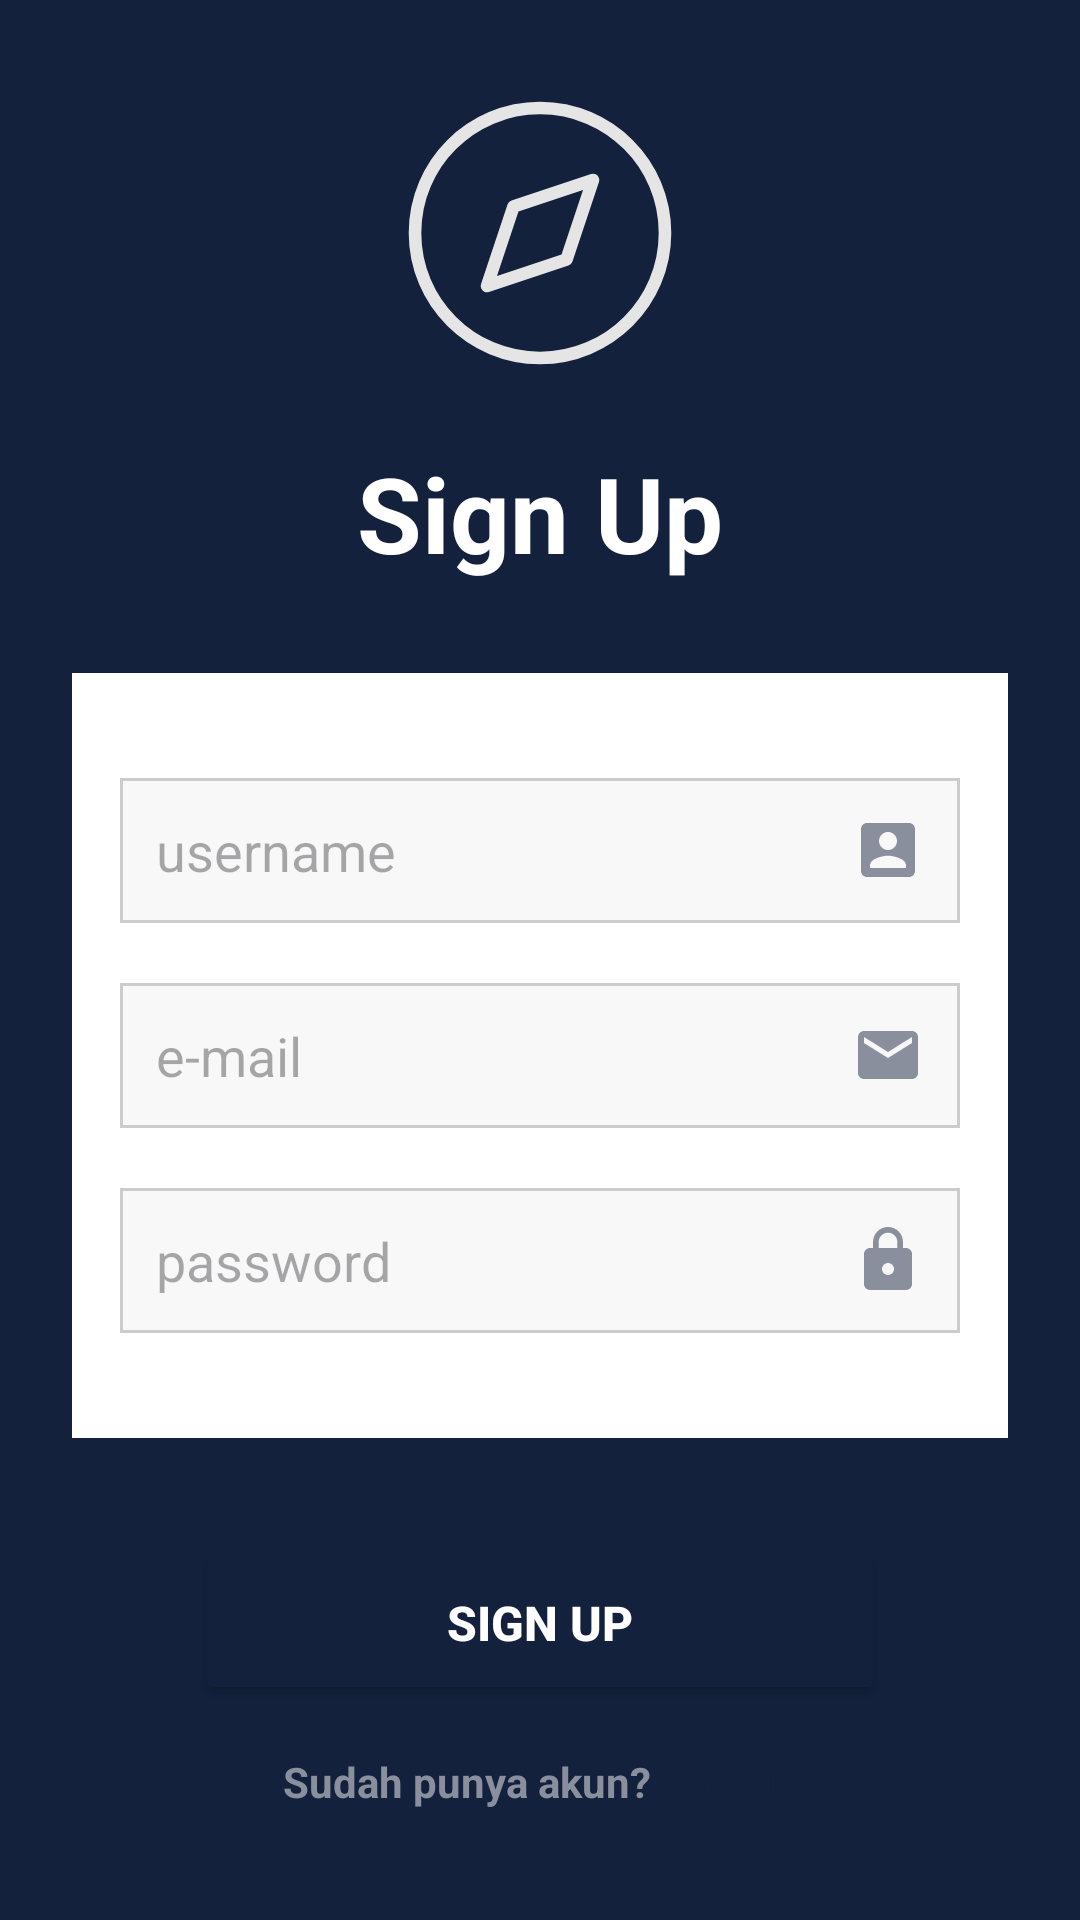

Icons on this 1080px×1920px Android screen, each with its box as (x1, y1, x2, y2):
compass: (408, 101, 672, 365)
